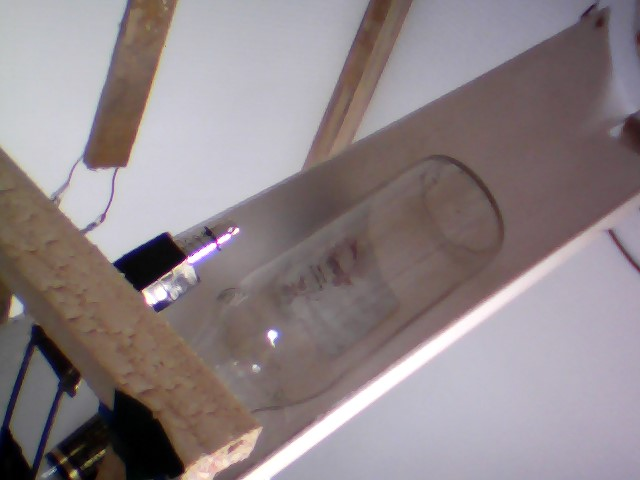vidrio: (187, 149, 511, 420)
